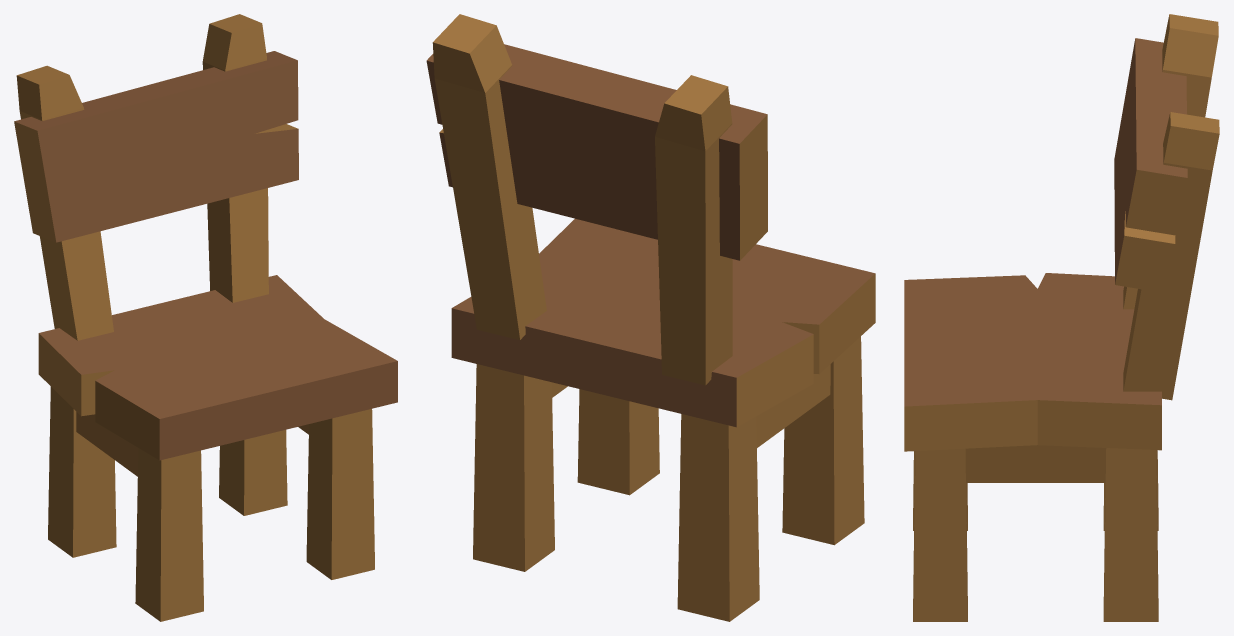
File: chair-wood.glb
The picture shows the model from 3 angles, left to right: view 1: azimuth 30°, elevation 25°; view 2: azimuth 150°, elevation 25°; view 3: azimuth 270°, elevation 25°; orthographic projection. The views are drawn at different scales.
Visible parts, largest first — view 1: chair-wood; view 2: chair-wood; view 3: chair-wood.
Boxes of the visible parts, <box> form: chair-wood: <box>14,14,397,621</box>; chair-wood: <box>426,14,875,621</box>; chair-wood: <box>904,14,1219,621</box>.
Bounding box in the file's own units: 0.6597 × 1.11 × 0.6343.
Materials: 1 (1 with a texture image).
